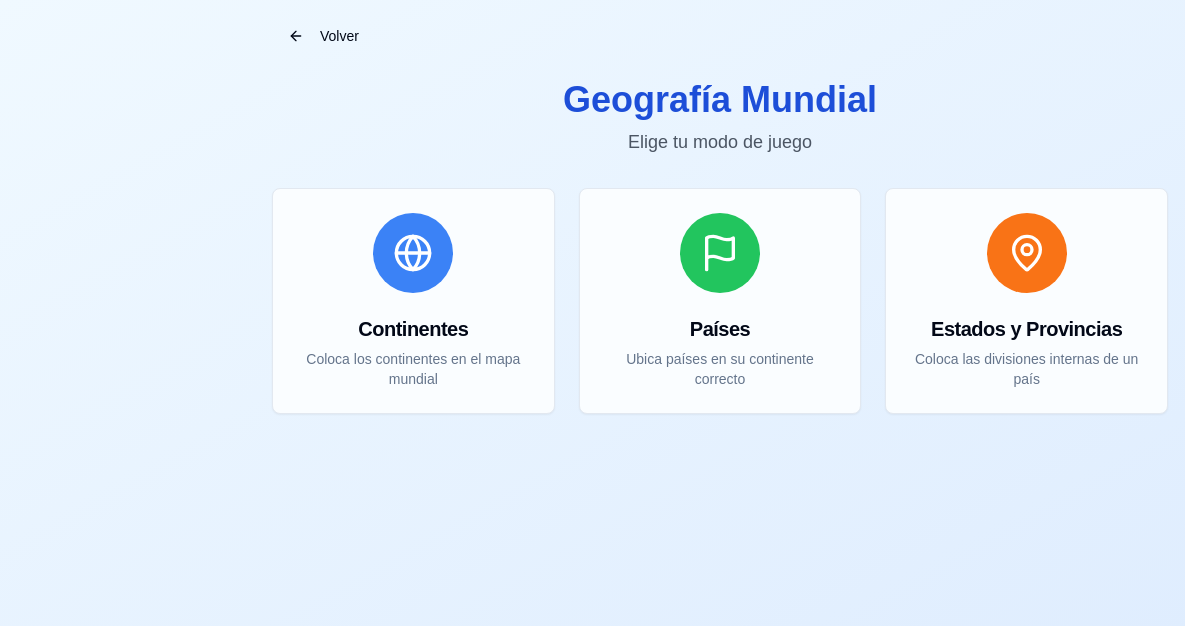
Test: ContinentsScreen › Game Flow Tests › should navigate from mode selector to difficulty selector
This screenshot has width=1185, height=626.
# Click continents mode
Step 1. Click the text "Continentes" → click(413, 329), box 358,318 -> 468,340
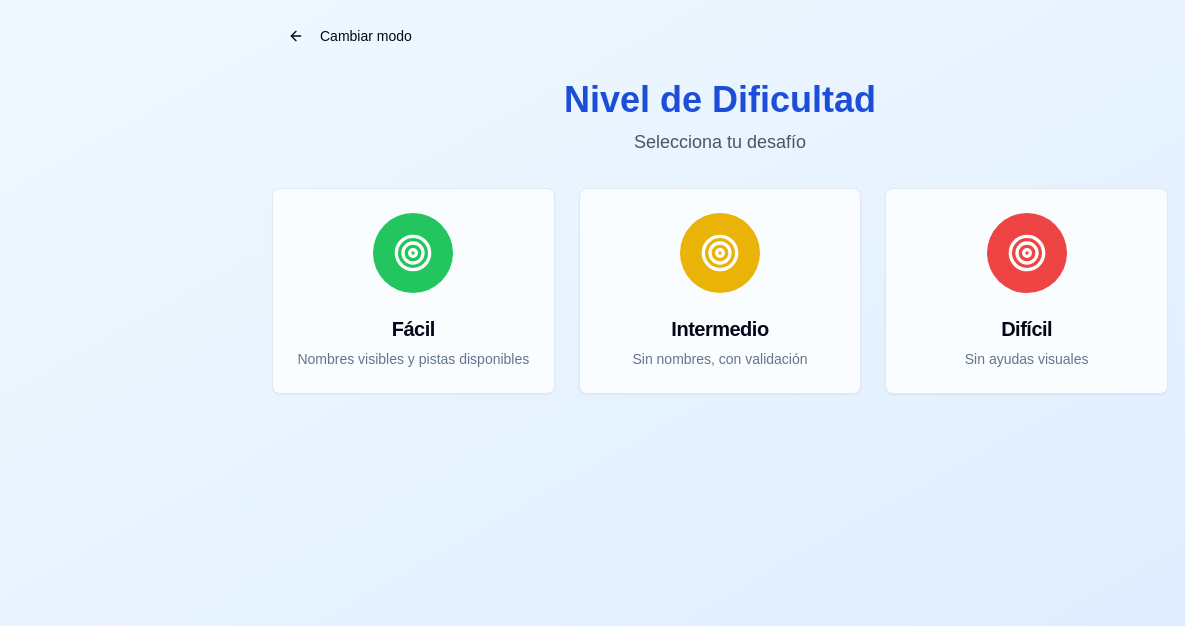
Result: the heading "Nivel de Dificultad" is shown at 564,79 -> 876,120
Result: the text "Fácil" is shown at 392,318 -> 435,340
Result: the text "Intermedio" is shown at 671,318 -> 769,340
